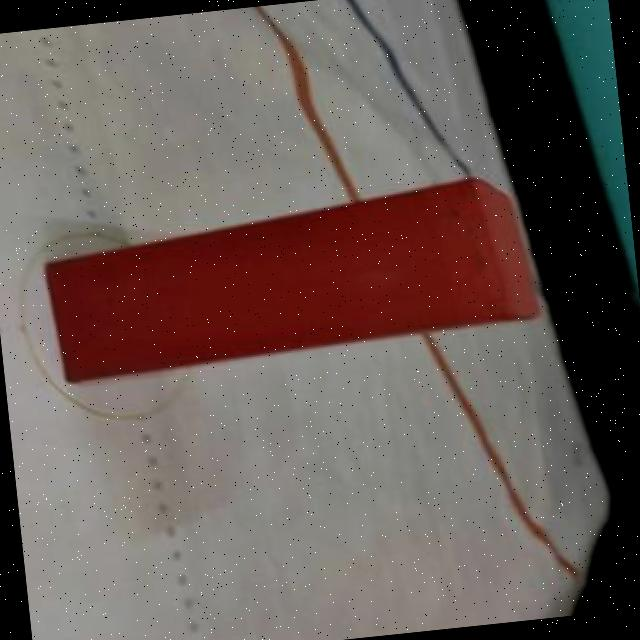redbox: (42, 172, 545, 380)
